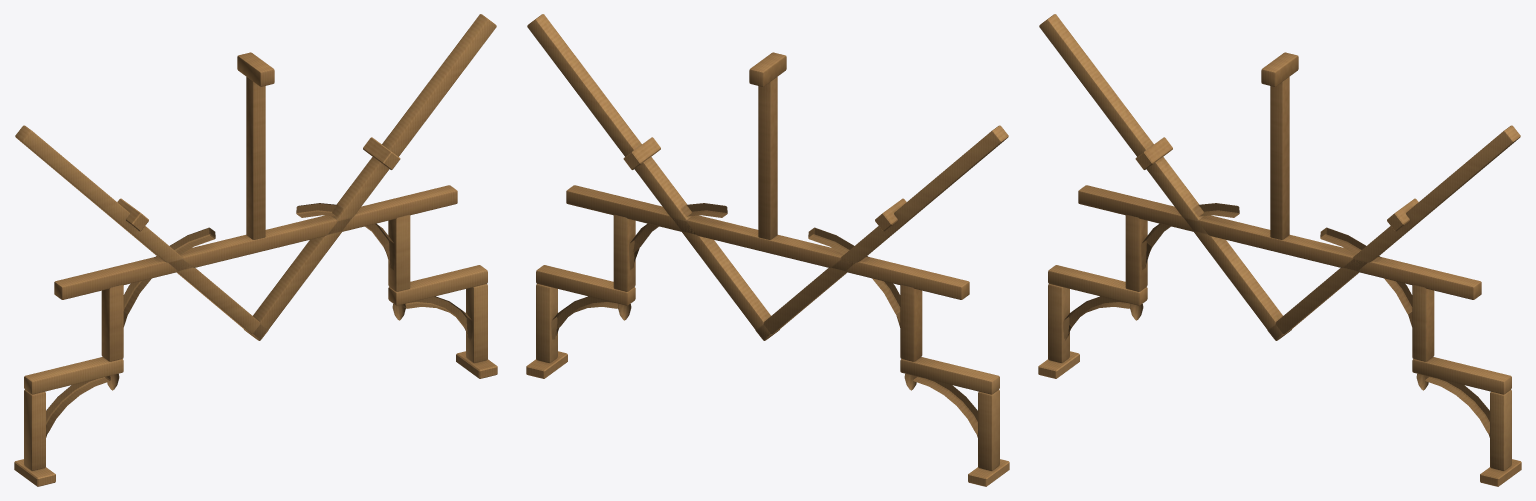
The model's file is hammer_beam_truss.glb.
3 views of the same model, side by side, from view 1: azimuth 30°, elevation 25°; view 2: azimuth 150°, elevation 25°; view 3: azimuth 330°, elevation 25° (orthographic).
Parts seen in each view (by area): view 1: hammer_beam_truss; view 2: hammer_beam_truss; view 3: hammer_beam_truss.
Boxes of the visible parts, <box> form: hammer_beam_truss: <box>14,14,497,486</box>; hammer_beam_truss: <box>526,14,1009,486</box>; hammer_beam_truss: <box>1038,14,1521,486</box>.
Size of the model in its own units: 10.39 by 7.55 by 0.9.
1 material, 1 textured.
